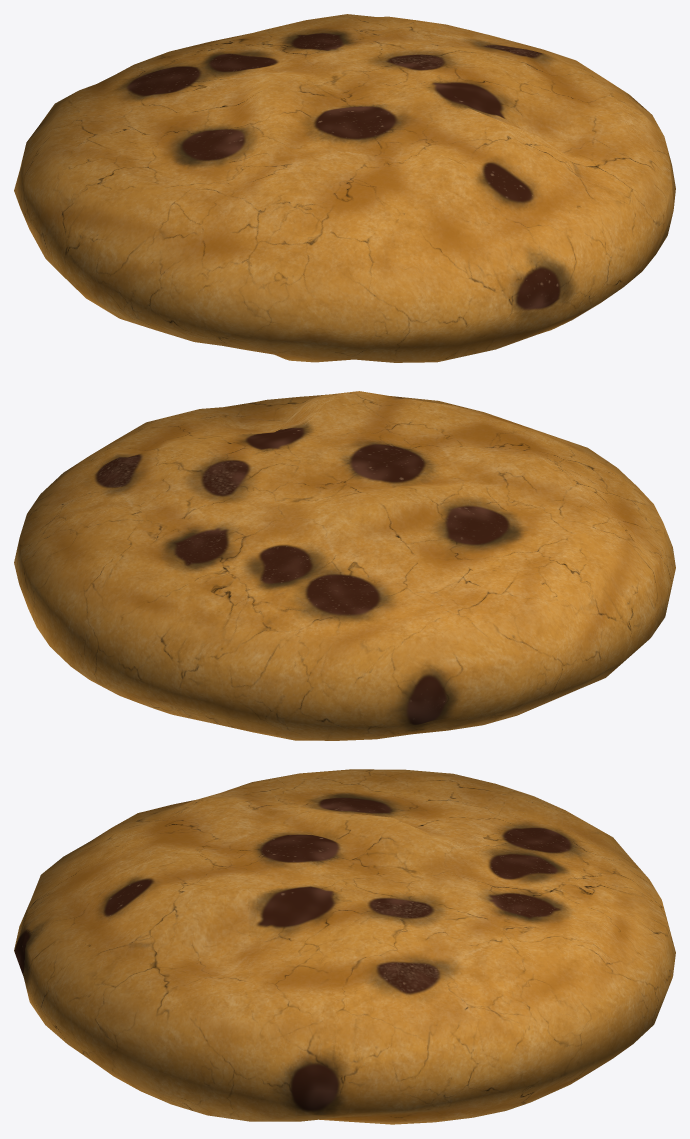
Rendered from chocolate_chip_cookie.glb.
The picture shows the model from 3 angles, top to bottom: view 1: azimuth 30°, elevation 25°; view 2: azimuth 150°, elevation 25°; view 3: azimuth 270°, elevation 25°; orthographic projection.
Visible parts, largest first — view 1: Chocolate_Chip_Cookie; view 2: Chocolate_Chip_Cookie; view 3: Chocolate_Chip_Cookie.
Boxes of the visible parts, x1,y1,x2,y2 form: Chocolate_Chip_Cookie: (14, 14, 675, 362); Chocolate_Chip_Cookie: (14, 391, 675, 740); Chocolate_Chip_Cookie: (14, 769, 675, 1124).
Bounding box in the file's own units: 0.069 × 0.0231 × 0.0685.
Materials: 1 (1 with a texture image).
